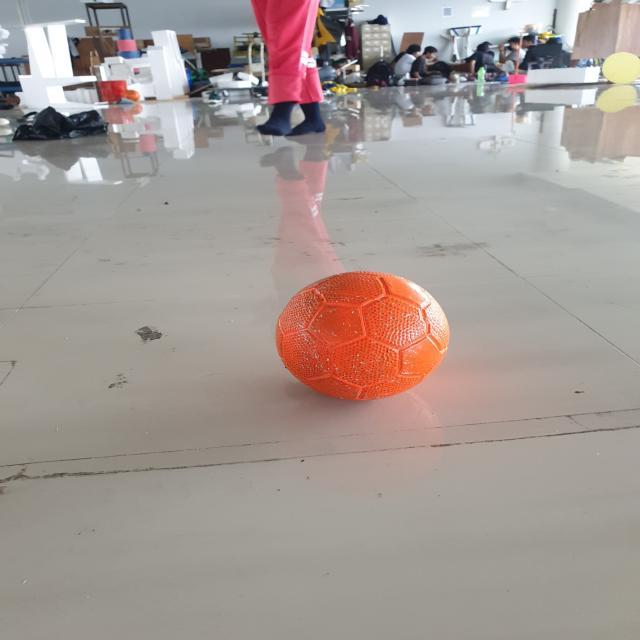bola: (228, 244, 479, 416)
